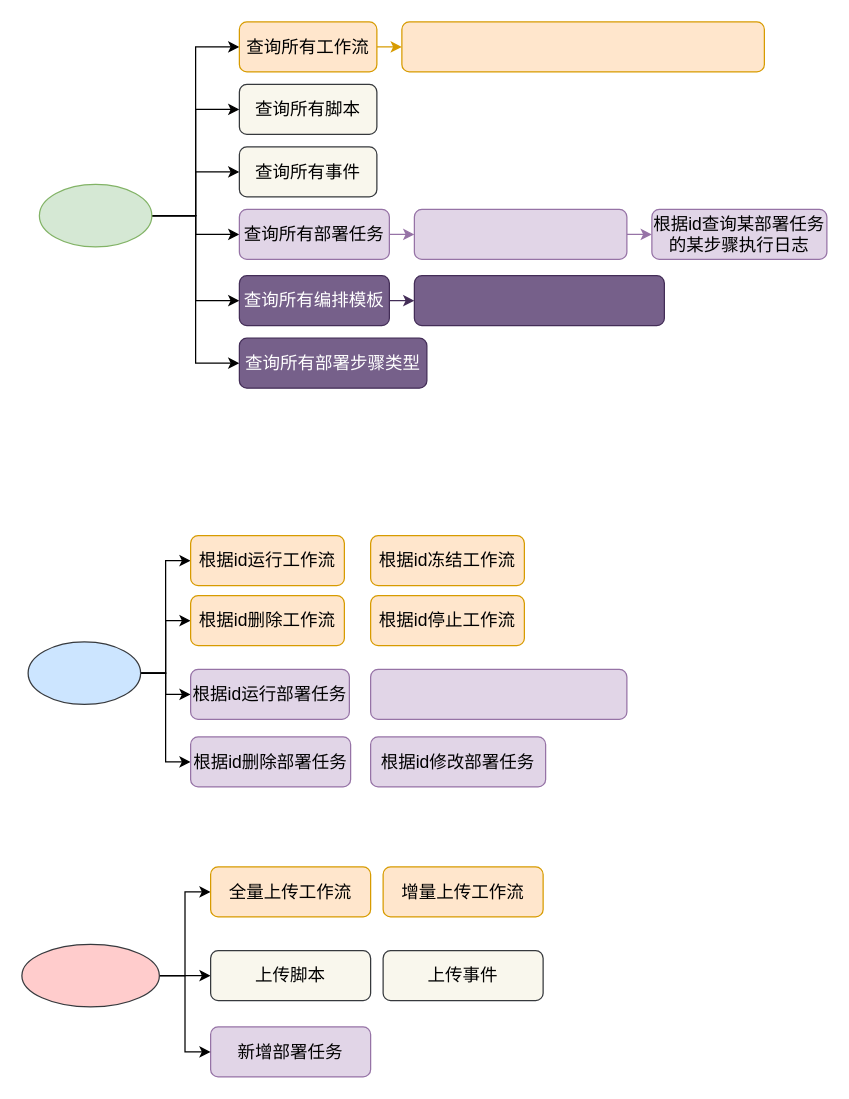
The diagram is 849 pixels wide and 1099 high, and some of its shapes have lost their labels. Here are the shapes that lost their labels. From the top down, the box of each, then its label:
(401, 21, 764, 72): 根据id查询对应工作流任务节点以及依赖关系
(38, 183, 152, 247): 查询接口
(413, 208, 627, 259): 根据id查询某部署任务详情
(413, 274, 664, 326): 根据id查询某编排模板所有步骤
(27, 641, 141, 704): 修改接口
(369, 668, 627, 719): 根据id重试某部署任务的某步骤
(21, 943, 159, 1007): 新增/上传接口
